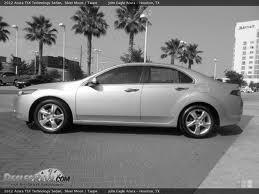car: (15, 58, 246, 139)
